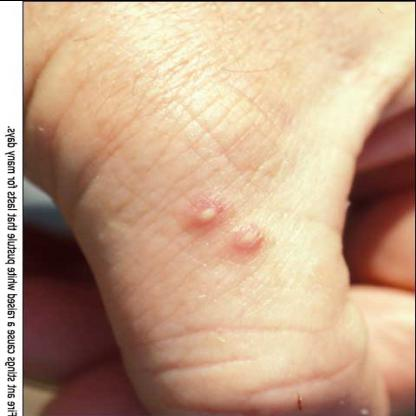Fire ant: (230, 225, 271, 257), (189, 198, 223, 228)
